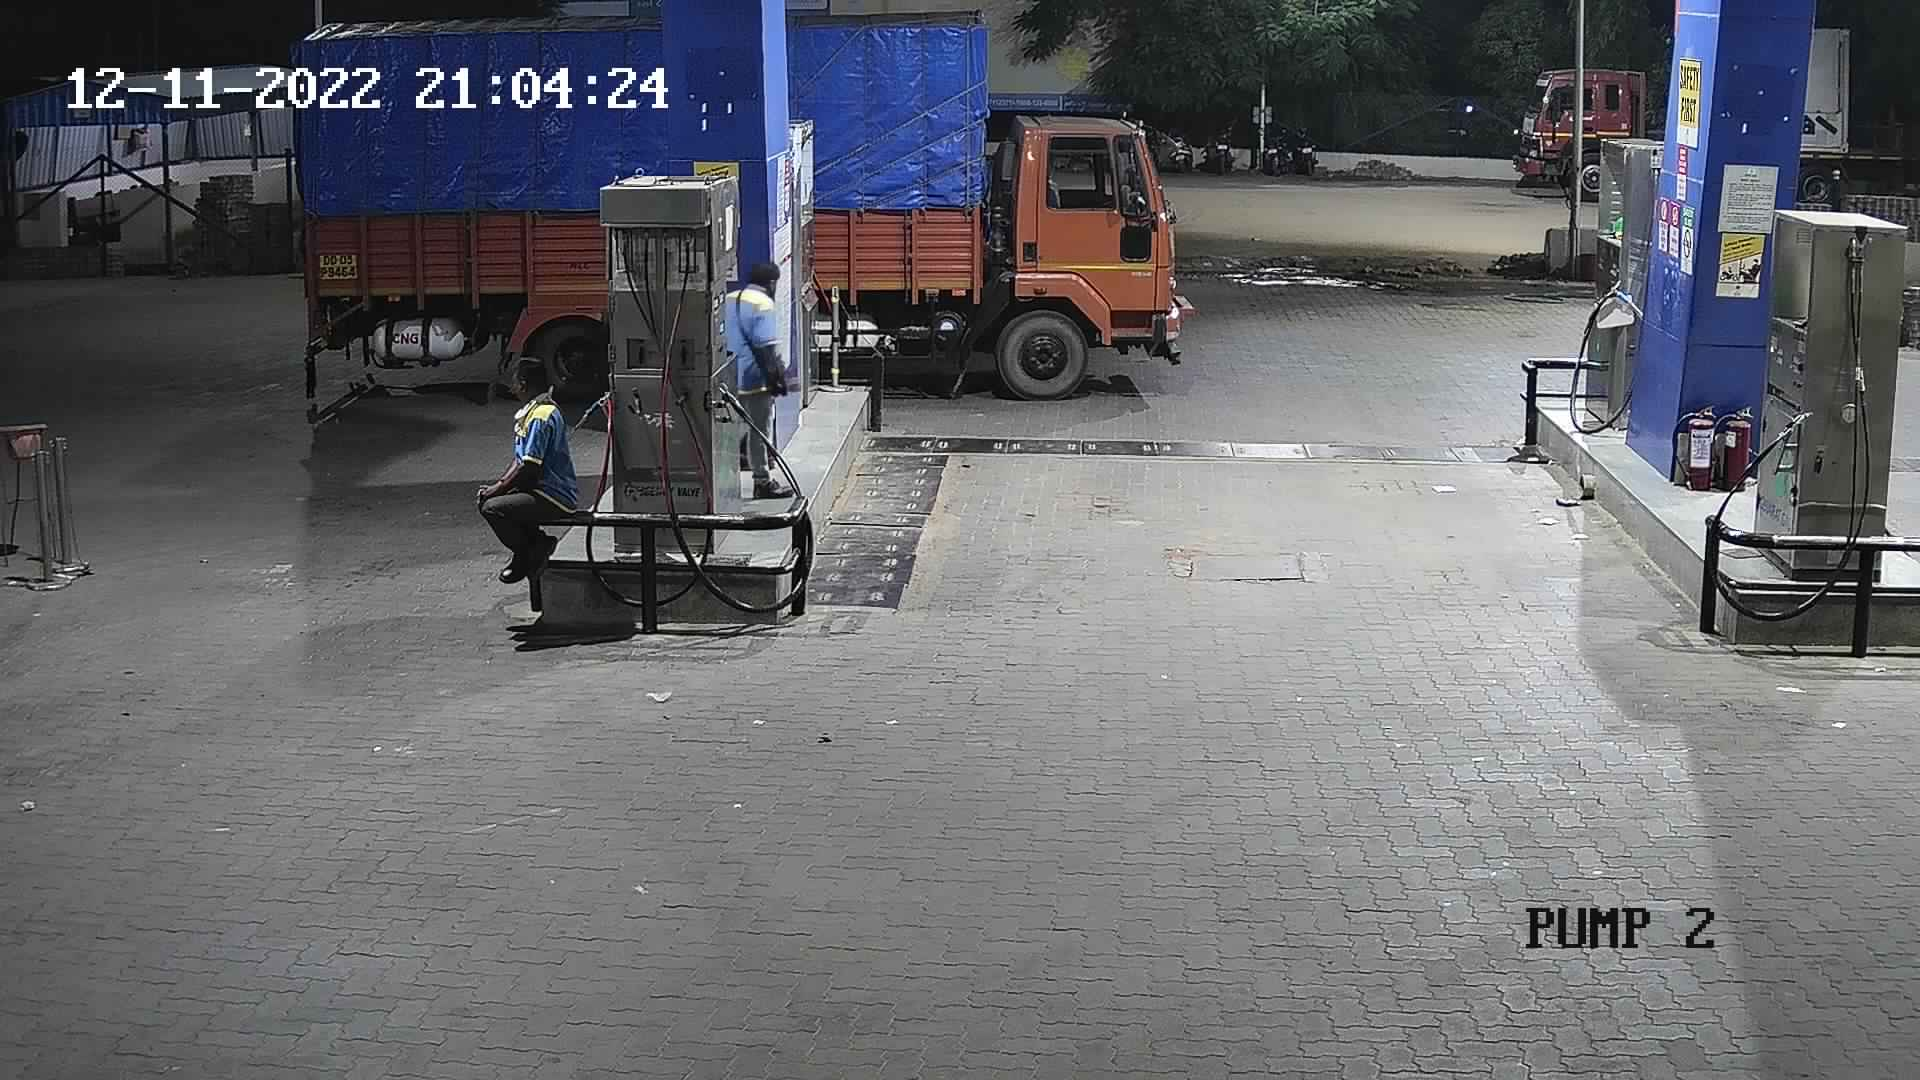Bike: (1151, 116, 1203, 181), (1203, 121, 1245, 182), (1287, 117, 1323, 179), (1255, 123, 1290, 179)
HMV: (771, 0, 1207, 405), (1499, 45, 1669, 206)
Others: (464, 347, 591, 584), (709, 251, 798, 504)
